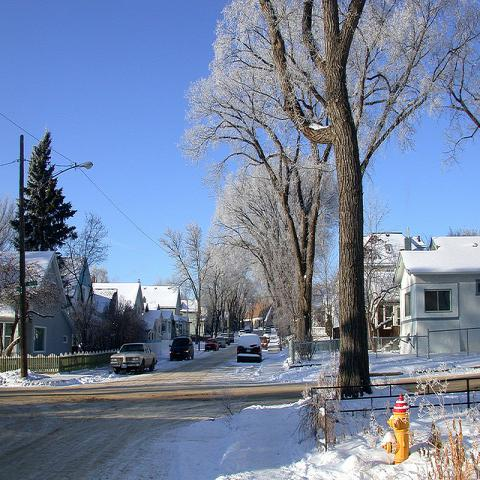car: (109, 342, 158, 376), (236, 334, 264, 363), (171, 335, 196, 360), (205, 338, 219, 351), (220, 332, 231, 346), (259, 336, 269, 350), (216, 336, 227, 347), (269, 335, 278, 343), (244, 325, 251, 333), (229, 332, 234, 343), (265, 327, 272, 333), (239, 330, 244, 337)
